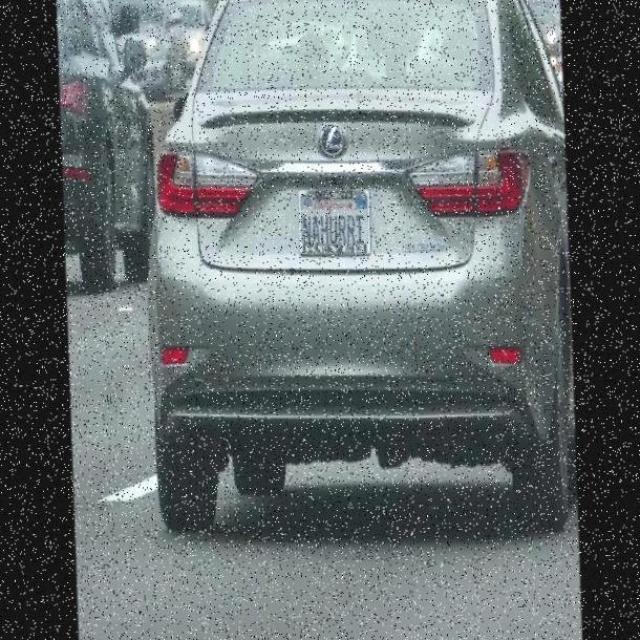license-plate: (266, 183, 414, 268)
